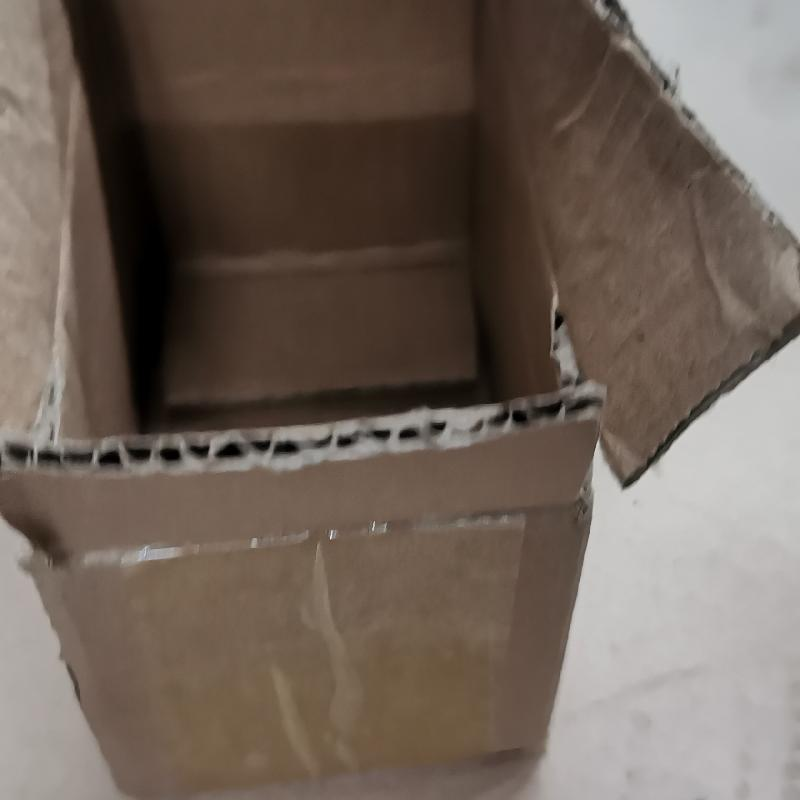boxes: (1, 3, 799, 799)
